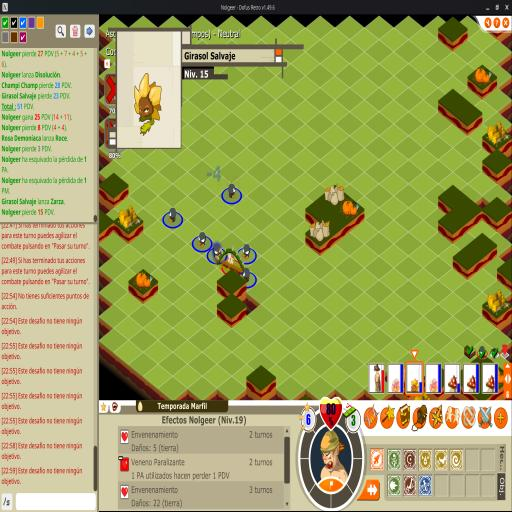Enemigos: (212, 243, 223, 261), (241, 266, 252, 284), (241, 243, 251, 261), (168, 206, 178, 223), (228, 182, 238, 199), (197, 231, 207, 248)
Personaje: (219, 242, 244, 276)
